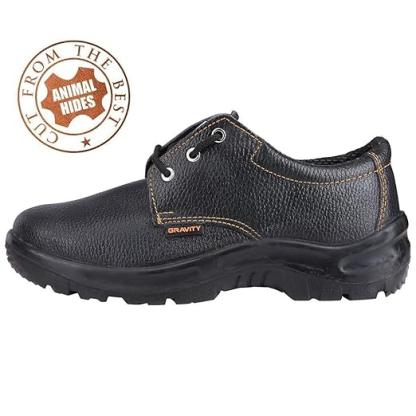bota: (0, 108, 413, 308)
